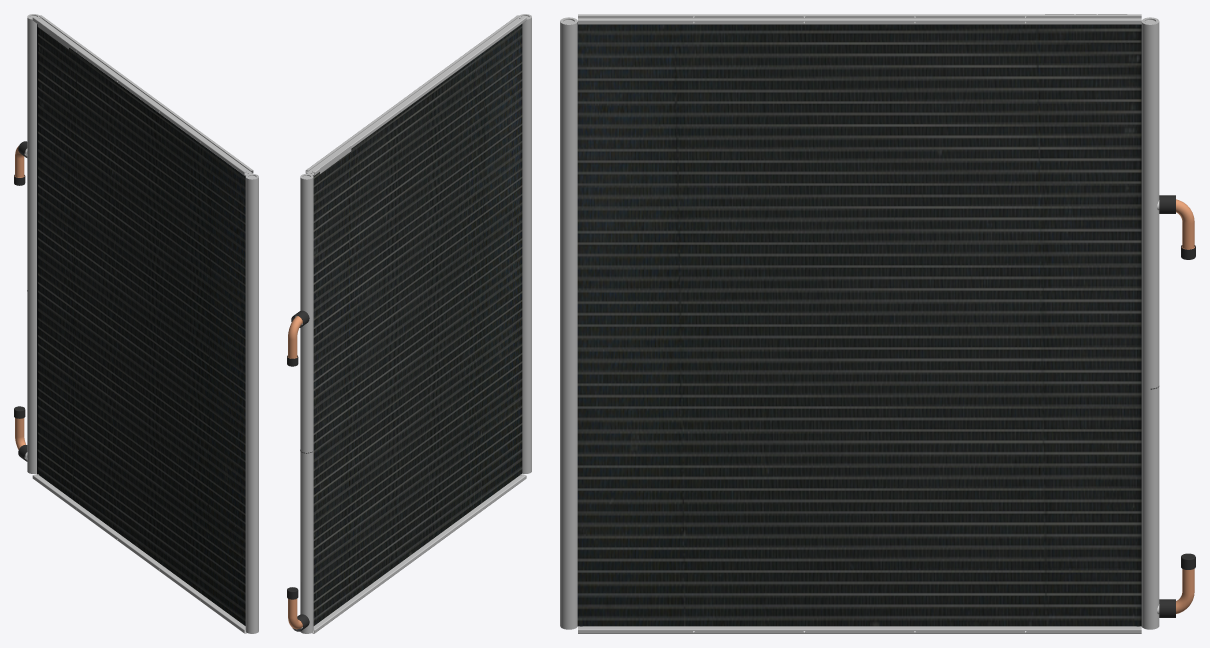
Rendered from he_glb_T.glb.
The picture shows the model from 3 angles, left to right: view 1: azimuth 30°, elevation 25°; view 2: azimuth 150°, elevation 25°; view 3: azimuth 270°, elevation 25°; orthographic projection. The views are drawn at different scales.
Parts seen in each view (by area): view 1: Plane.002, Solid1.001, Solid1, Solid1.013, Solid1.012; view 2: Plane.002, Solid1, Solid1.001, Solid1.013, Solid1.012, Solid1.041; view 3: Plane.001, Solid1, Solid1.001, Solid1.013, Solid1.012.
Part boxes in pixels (x1=…): Plane.002: x1=37, y1=24, x2=245, y2=625; Solid1.001: x1=245, y1=174, x2=258, y2=633; Solid1: x1=27, y1=14, x2=40, y2=473; Solid1.013: x1=32, y1=15, x2=253, y2=175; Solid1.012: x1=32, y1=474, x2=246, y2=633; Plane.002: x1=313, y1=24, x2=522, y2=625; Solid1: x1=300, y1=174, x2=313, y2=633; Solid1.001: x1=518, y1=14, x2=531, y2=473; Solid1.013: x1=305, y1=15, x2=526, y2=175; Solid1.012: x1=312, y1=474, x2=526, y2=633; Solid1.041: x1=287, y1=316, x2=302, y2=358; Plane.001: x1=577, y1=22, x2=1141, y2=626; Solid1: x1=1141, y1=17, x2=1159, y2=629; Solid1.001: x1=560, y1=17, x2=577, y2=629; Solid1.013: x1=578, y1=14, x2=1141, y2=24; Solid1.012: x1=578, y1=626, x2=1141, y2=633.
Size of the model in its own units: 0.0332 by 1.22 by 1.14.
Materials: 6 (1 with a texture image).
